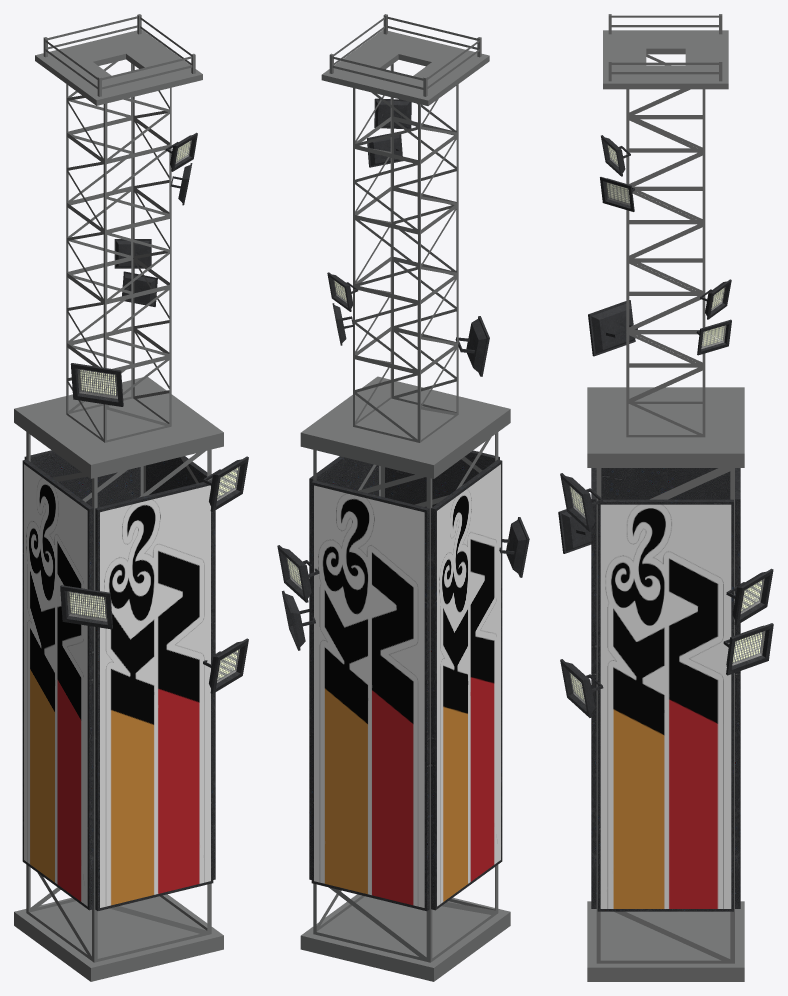
Rendered from BillboardLight_2.fbx.
3 views of the same model, side by side, from view 1: azimuth 30°, elevation 25°; view 2: azimuth 150°, elevation 25°; view 3: azimuth 270°, elevation 25° (orthographic). The views are drawn at different scales.
Parts seen in each view (by area): view 1: BillboardLight_2; view 2: BillboardLight_2; view 3: BillboardLight_2.
Part boxes in pixels (<box>): BillboardLight_2: <box>14,14,248,981</box>; BillboardLight_2: <box>277,14,529,981</box>; BillboardLight_2: <box>558,14,773,981</box>.
Bounding box in the file's own units: 4.37 × 20.37 × 4.37.
